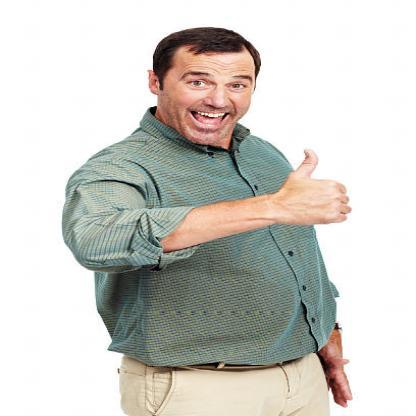thumb_up: (269, 144, 358, 229)
